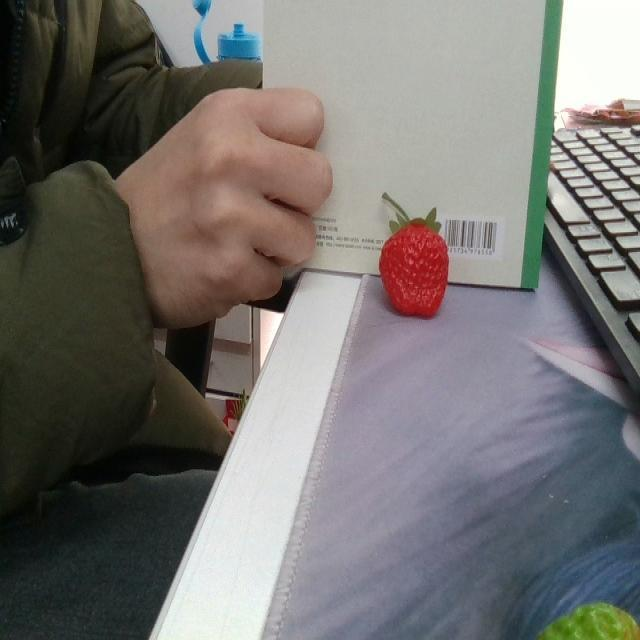ripe: (379, 220, 449, 319)
